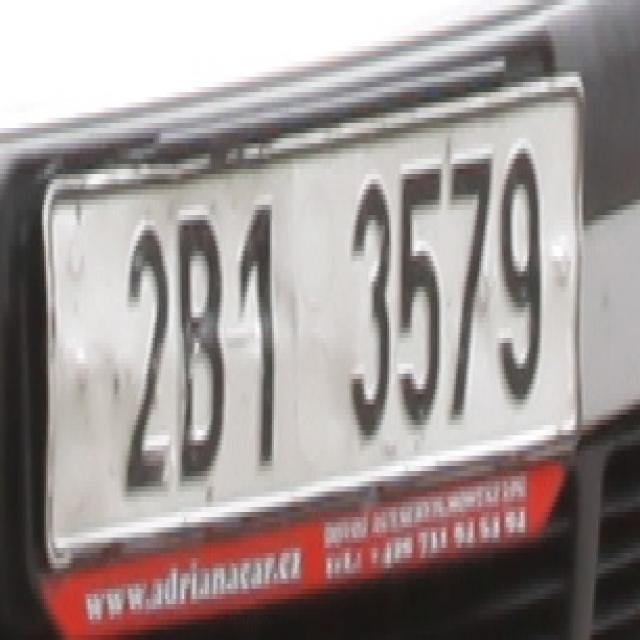1: (236, 190, 276, 476)
2: (124, 215, 172, 497)
3: (343, 169, 391, 445)
5: (396, 164, 444, 440)
7: (446, 154, 494, 440)
9: (498, 138, 544, 410)
B: (174, 205, 224, 491)
